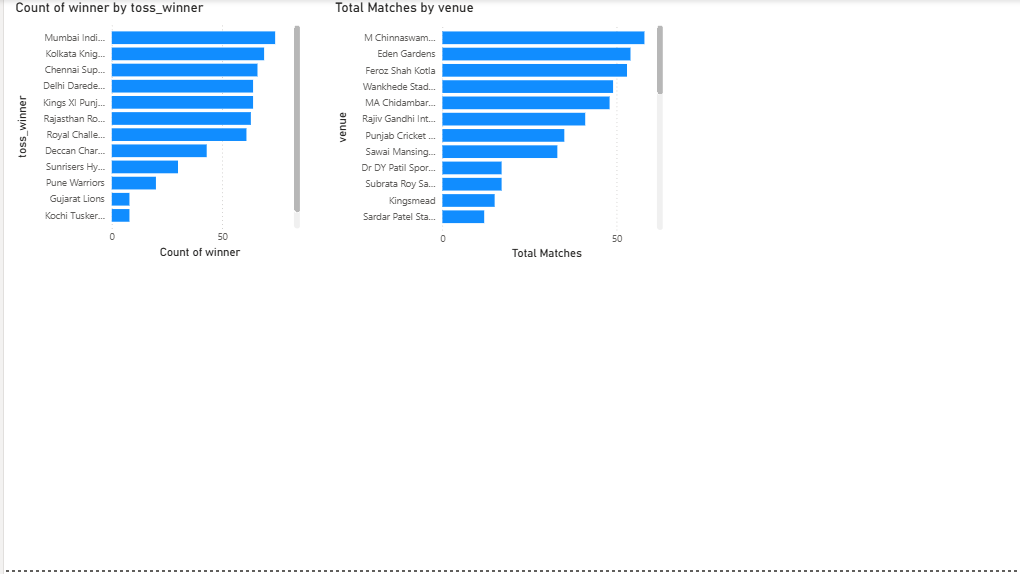

This screenshot's page, from the dashboard's own definition file:
{"tool":"powerbi","page":{"name":"Match Insights & Impact Analysis","canvas":[1280,720],"ordinal":1},"visuals":[{"type":"clusteredBarChart","fields":{"Category":["matches.toss_winner"],"Y":["CountNonNull(matches.winner)"]},"box":[9.4,0,368.5,330.7],"z":0},{"type":"clusteredBarChart","fields":{"Category":["matches.venue"],"Y":["matches.Total Matches"]},"box":[412,0,423.3,332.6],"z":1000}]}

Visuals, with their boxes in screenshot pixels (x1, y1, x2, y2), scaled from the page's 1280x720 canvas onto the 1020x574 screenshot:
clusteredBarChart - matches.toss_winner x CountNonNull(matches.winner): bbox(7, 0, 301, 264)
clusteredBarChart - matches.venue x matches.Total Matches: bbox(328, 0, 666, 265)
